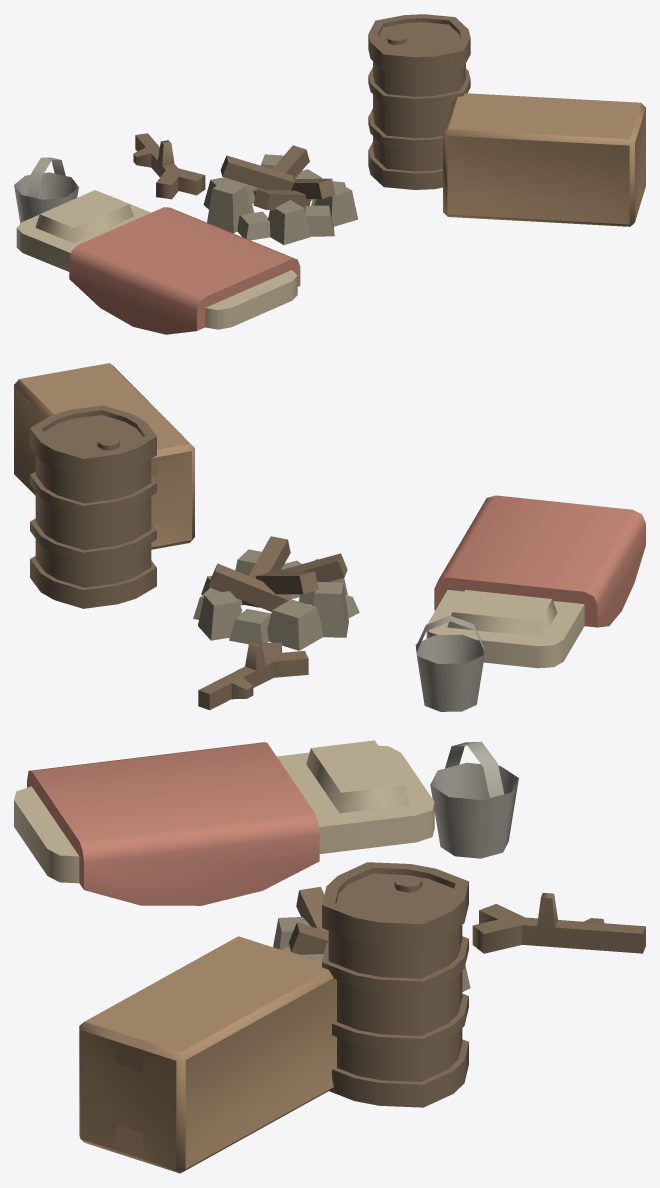
Rendered from camp-ground-props.glb.
3 views of the same model, one above another, from view 1: azimuth 30°, elevation 25°; view 2: azimuth 150°, elevation 25°; view 3: azimuth 270°, elevation 25° (orthographic). The views are drawn at different scales.
Parts seen in each view (by area): view 1: camp_item_05_00, camp_item_02_01, camp_item_04_00, camp_item_02_00, camp_item_00_00, camp_item_00_01, camp_item_07_00, camp_item_06_00; view 2: camp_item_04_00, camp_item_02_01, camp_item_05_00, camp_item_02_00, camp_item_00_00, camp_item_00_01, camp_item_07_00, camp_item_06_00; view 3: camp_item_05_00, camp_item_02_01, camp_item_04_00, camp_item_02_00, camp_item_07_00, camp_item_06_00, camp_item_00_01, camp_item_00_00.
Part boxes in pixels (<box>): camp_item_05_00: <box>443,93,645,226</box>; camp_item_02_01: <box>69,207,300,334</box>; camp_item_04_00: <box>368,14,470,189</box>; camp_item_02_00: <box>16,190,297,329</box>; camp_item_00_00: <box>203,154,358,244</box>; camp_item_00_01: <box>220,145,335,210</box>; camp_item_07_00: <box>14,157,78,223</box>; camp_item_06_00: <box>133,133,205,199</box>; camp_item_04_00: <box>30,405,156,608</box>; camp_item_02_01: <box>434,495,645,627</box>; camp_item_05_00: <box>14,363,194,549</box>; camp_item_02_00: <box>426,590,584,668</box>; camp_item_00_00: <box>193,549,359,650</box>; camp_item_00_01: <box>208,536,347,611</box>; camp_item_07_00: <box>415,615,484,711</box>; camp_item_06_00: <box>198,641,308,710</box>; camp_item_05_00: <box>79,936,336,1173</box>; camp_item_02_01: <box>27,742,319,905</box>; camp_item_04_00: <box>322,862,468,1107</box>; camp_item_02_00: <box>14,740,434,883</box>; camp_item_07_00: <box>430,741,518,858</box>; camp_item_06_00: <box>472,893,645,953</box>; camp_item_00_01: <box>289,886,328,954</box>; camp_item_00_00: <box>273,917,470,991</box>.
Size of the model in its own units: 4.13 by 0.946 by 2.95.
